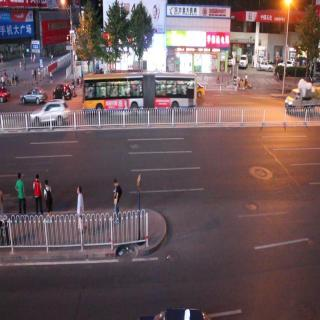BigCar: (80, 70, 199, 118)
Car: (285, 79, 320, 113), (30, 102, 69, 127), (19, 89, 46, 105), (53, 82, 73, 99)
